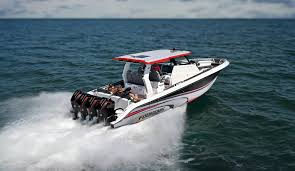boat: (71, 45, 230, 131)
